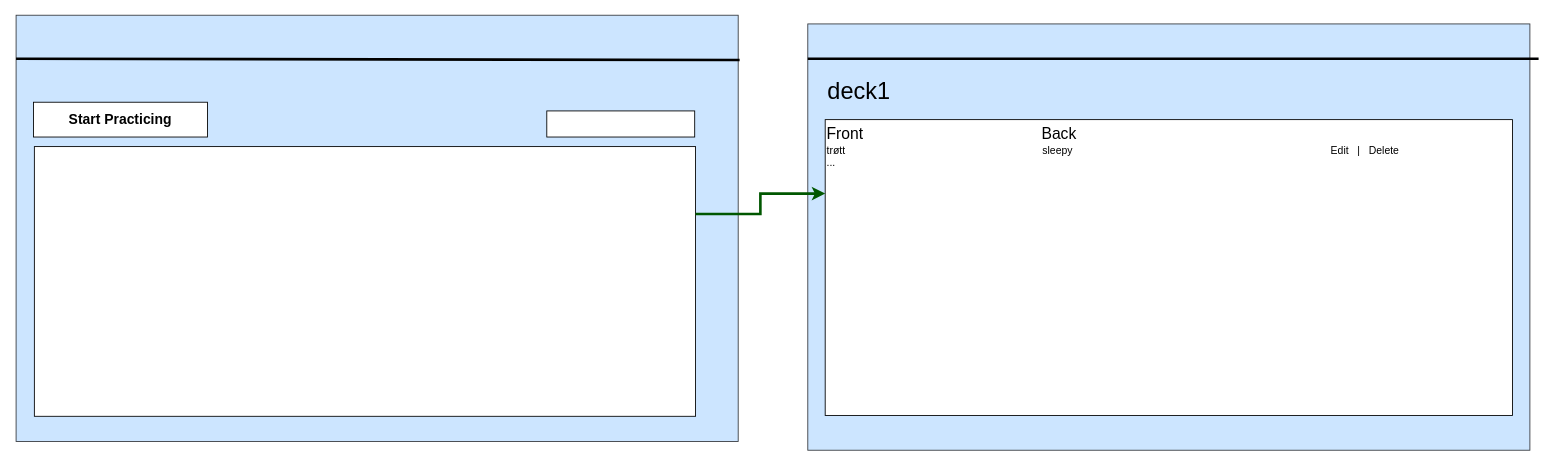
Some shapes in this 1556 by 465 pixel diagram are drawn without their labels. Here are the shapes that lost their labels. From the top down, the centre of each, then its label:
[620,123]: Upload new cards
[364,281]: Decks Name Number of cards Last updated deck1 25 28.02.2025
